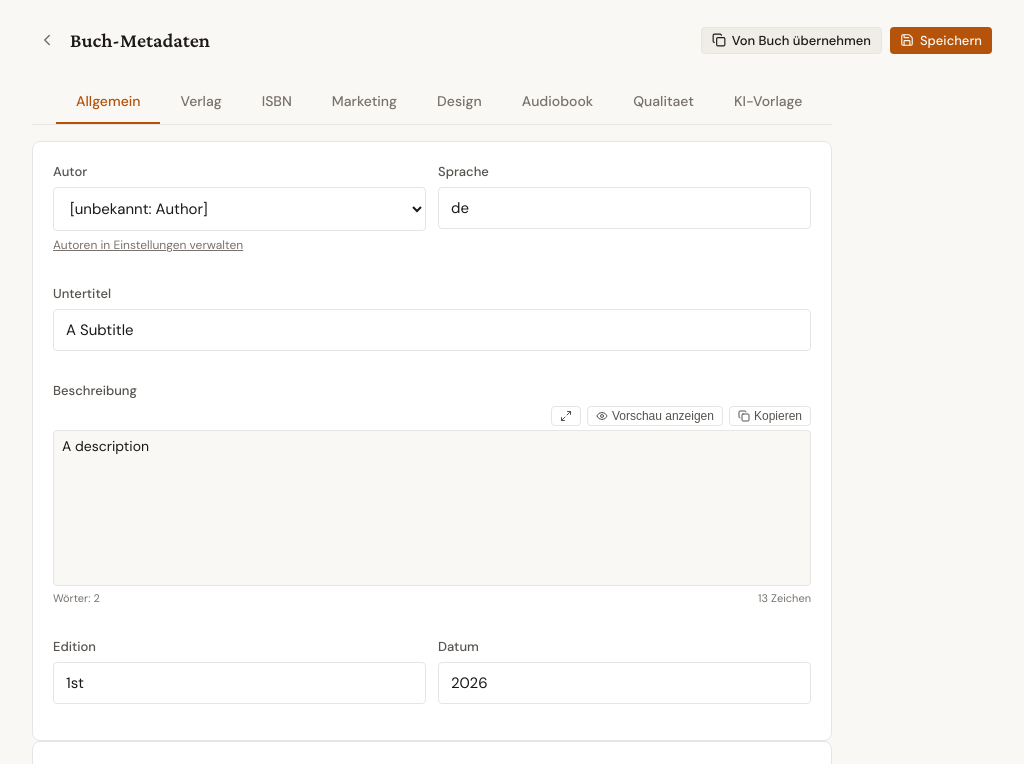
Test: BookMetadataEditor › copy dialog shows other books when clicked
Click the button "Von Buch übernehmen".
click(791, 40)  # box [701, 26, 882, 54]
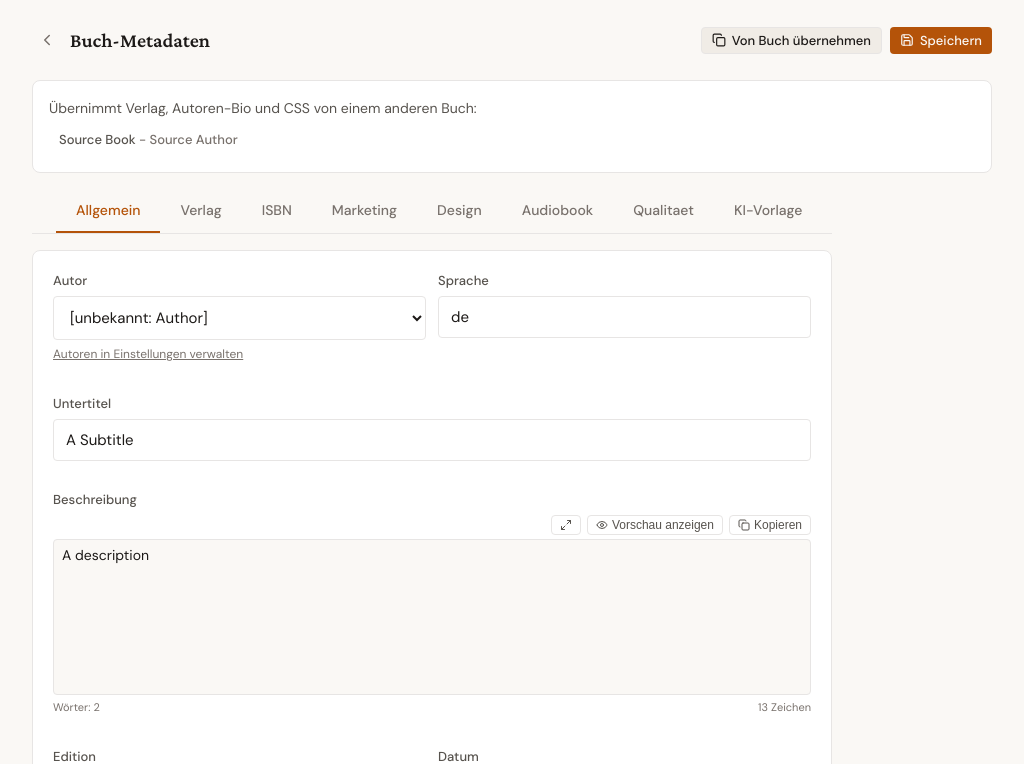
Result: the button "Source Book - Source Author" is shown at [49, 127, 975, 152]
